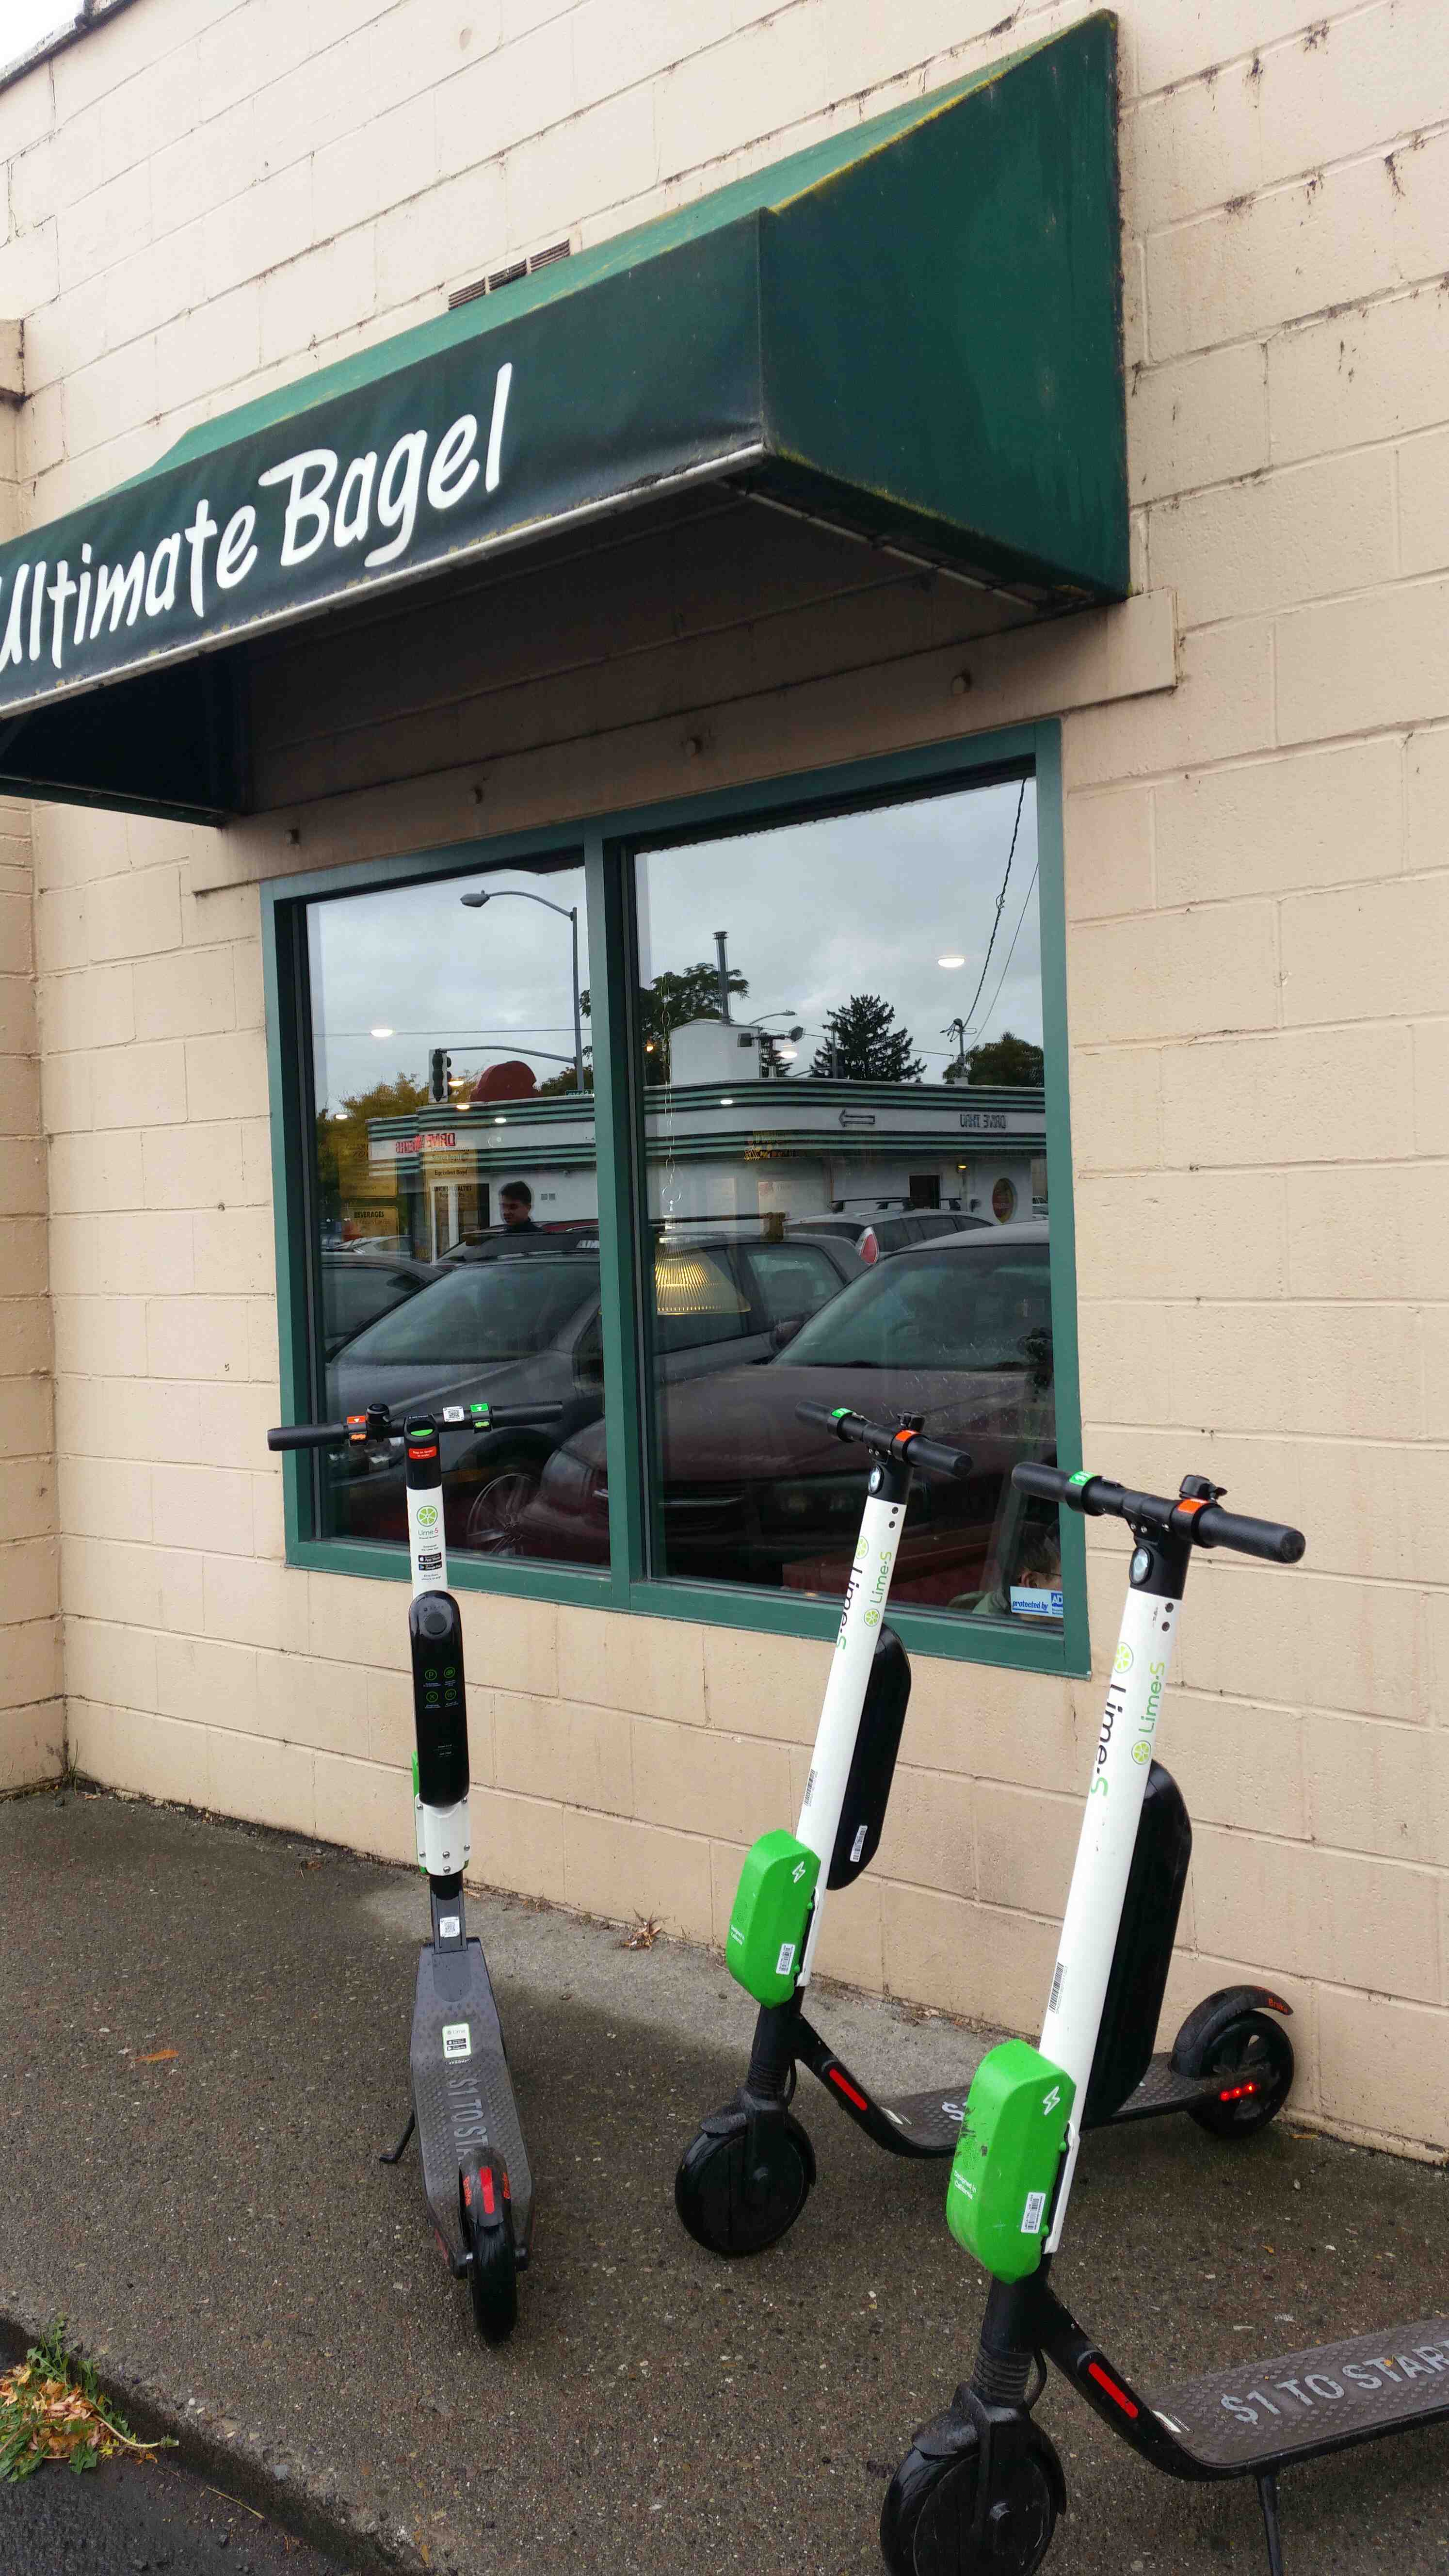scooter: (697, 1382, 1277, 2275), (251, 1396, 557, 2344)
